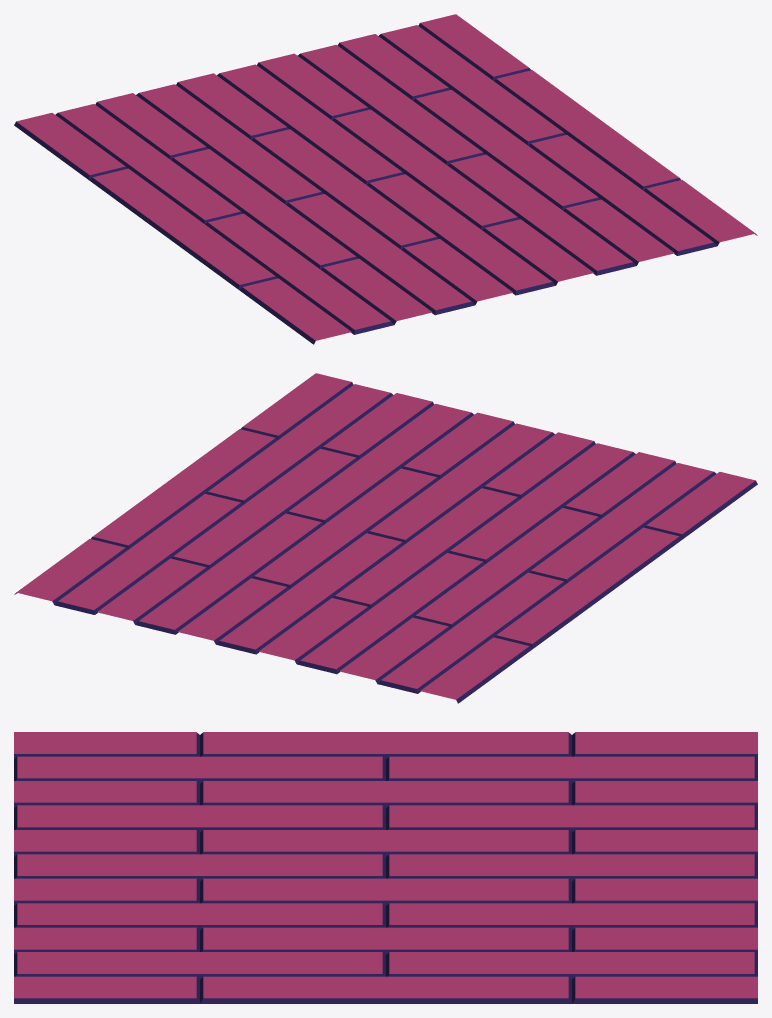
Rendered from floor_planks.glb.
3 renders of one model, top to bottom at view 1: azimuth 30°, elevation 25°; view 2: azimuth 150°, elevation 25°; view 3: azimuth 270°, elevation 25°, orthographic. The views are drawn at different scales.
Visible parts, largest first — view 1: Floor Planks; view 2: Floor Planks; view 3: Floor Planks.
Boxes of the visible parts, left/top/right/bottom form: Floor Planks: left=14, top=14, right=757, bottom=344; Floor Planks: left=14, top=373, right=757, bottom=703; Floor Planks: left=14, top=732, right=757, bottom=1003.
Size of the model in its own units: 8.44 by 0.0621 by 9.87.
